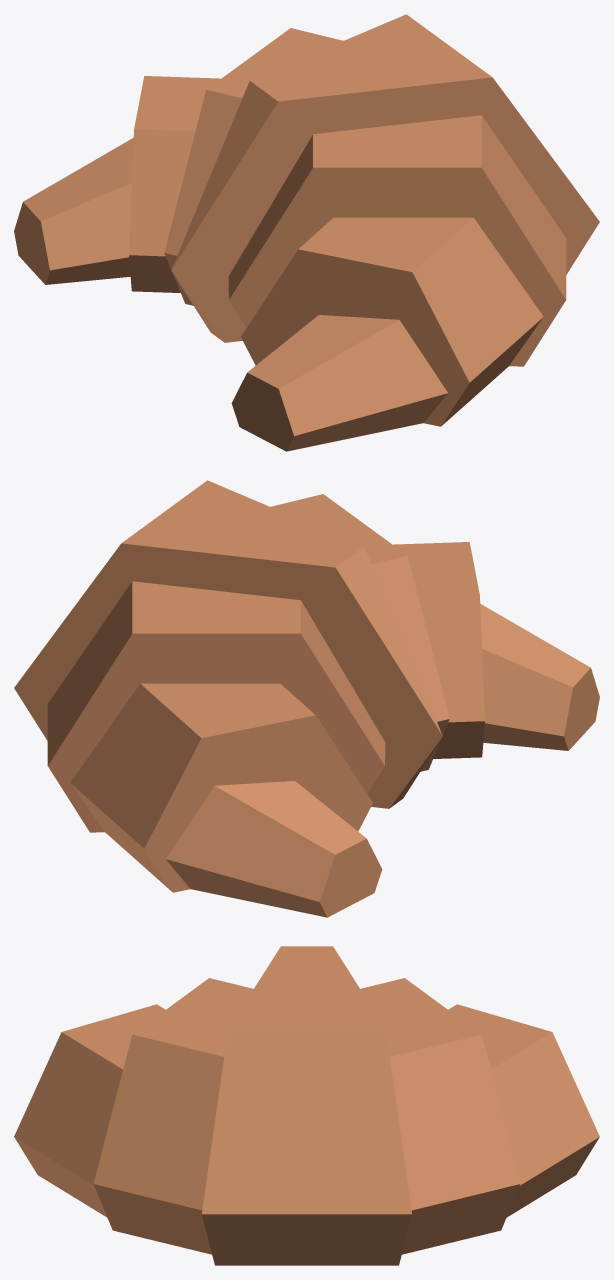
Rendered from croissant.m.glb.
3 renders of one model, top to bottom at view 1: azimuth 30°, elevation 25°; view 2: azimuth 150°, elevation 25°; view 3: azimuth 270°, elevation 25°, orthographic. The views are drawn at different scales.
Visible parts, largest first — view 1: croissant; view 2: croissant; view 3: croissant.
Part boxes in pixels (bbox=[...]): croissant: bbox=[14, 14, 599, 451]; croissant: bbox=[14, 480, 599, 917]; croissant: bbox=[14, 946, 599, 1265].
Bounding box in the file's own units: 0.0543 × 0.0304 × 0.075.
